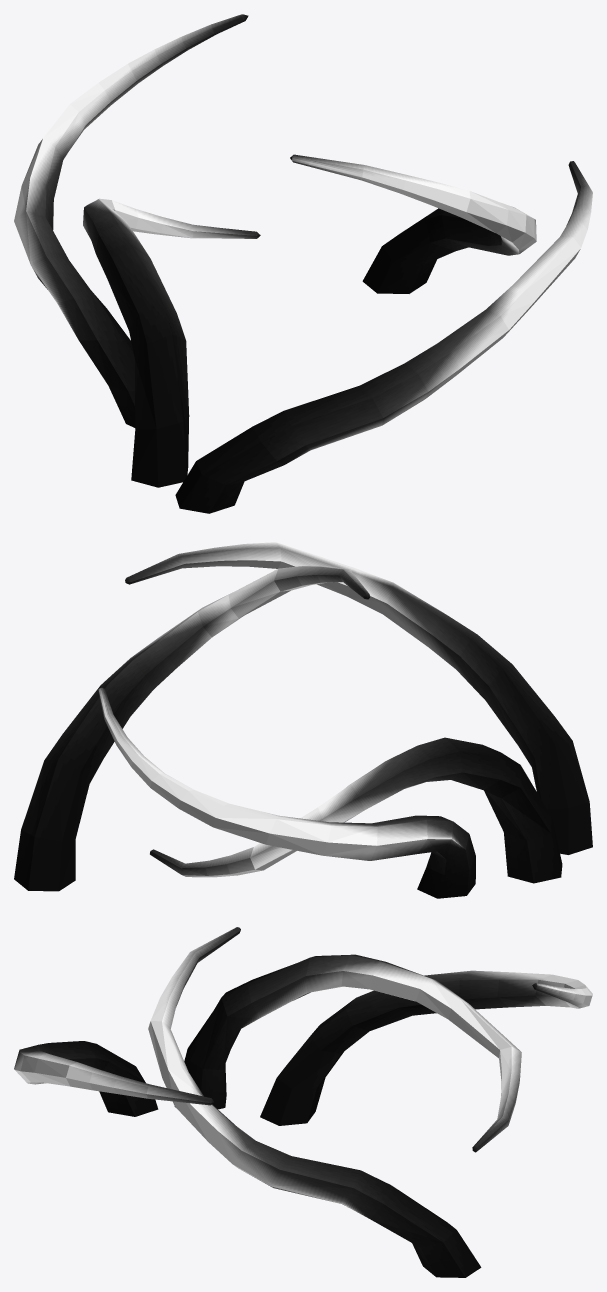
The model's file is 0254_chushou_2.glb.
3 renders of one model, top to bottom at view 1: azimuth 30°, elevation 25°; view 2: azimuth 150°, elevation 25°; view 3: azimuth 270°, elevation 25°, orthographic. The views are drawn at different scales.
Bounding box in the file's own units: 1.8 × 1.02 × 2.2.
Materials: 1 (1 with a texture image).
